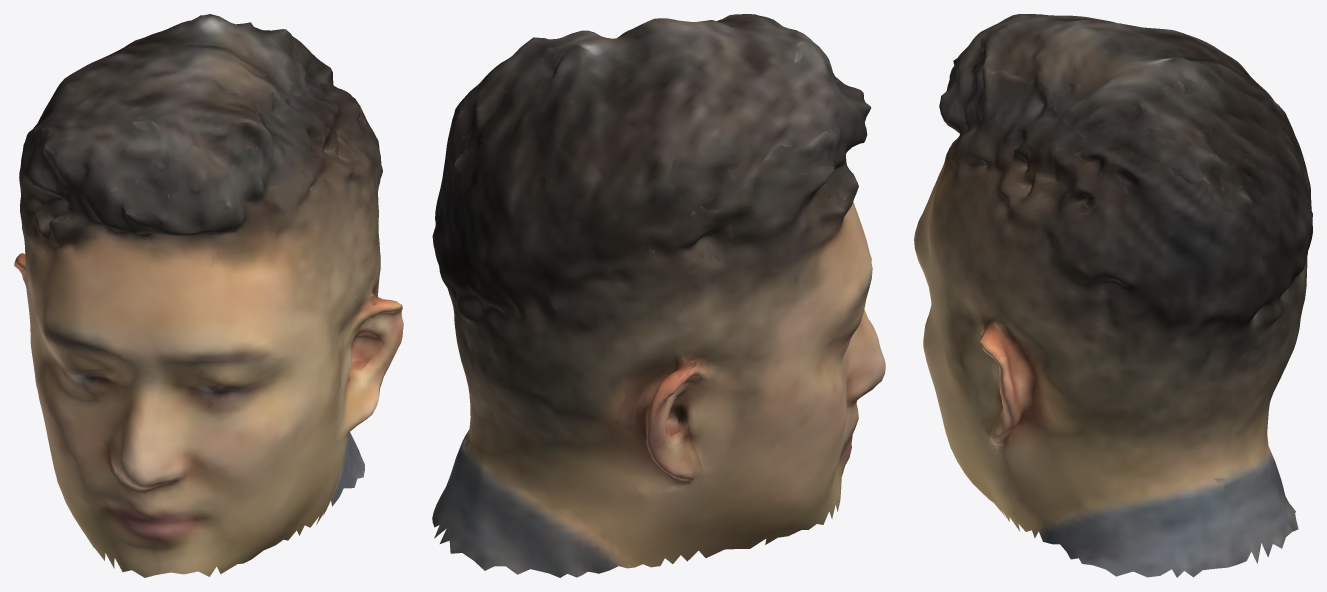
The model's file is nagase_cabeza.glb.
3 views of the same model, side by side, from view 1: azimuth 30°, elevation 25°; view 2: azimuth 150°, elevation 25°; view 3: azimuth 270°, elevation 25° (orthographic). The views are drawn at different scales.
Parts seen in each view (by area): view 1: cabeza; view 2: cabeza; view 3: cabeza.
Boxes of the visible parts, x1,y1,x2,y2 form: cabeza: (14, 14, 403, 577); cabeza: (432, 14, 885, 577); cabeza: (914, 14, 1312, 577).
Size of the model in its own units: 2.92 by 3.67 by 2.87.
Materials: 1 (1 with a texture image).
